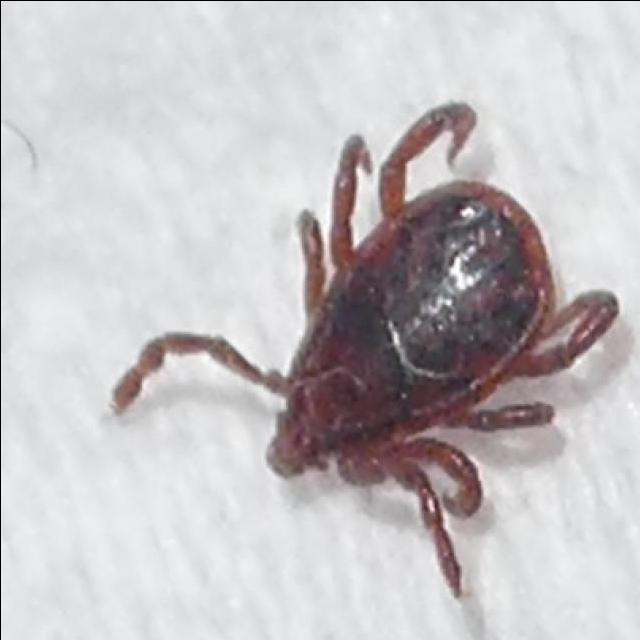Rhipicephalus Sanguineus-M: (108, 102, 621, 598)
